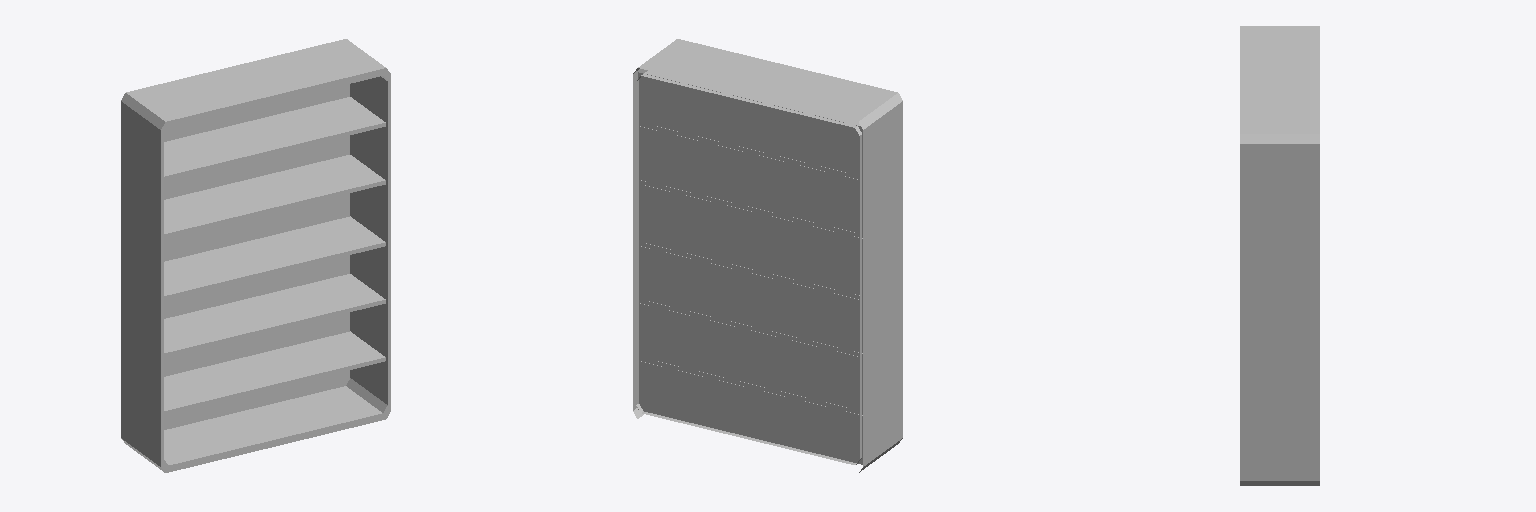
Rendered from bookshelf.obj.
The picture shows the model from 3 angles: view 1: azimuth 30°, elevation 25°; view 2: azimuth 150°, elevation 25°; view 3: azimuth 270°, elevation 25°; orthographic projection.
Visible parts, largest first — view 1: libreria2_Cube.007; view 2: libreria2_Cube.007; view 3: libreria2_Cube.007.
Part boxes in pixels (x1,y1,x2,y2): libreria2_Cube.007: (121, 39, 390, 472); libreria2_Cube.007: (633, 39, 902, 472); libreria2_Cube.007: (1240, 26, 1319, 485).
Bounding box in the file's own units: 1.65 × 2.41 × 0.4976.